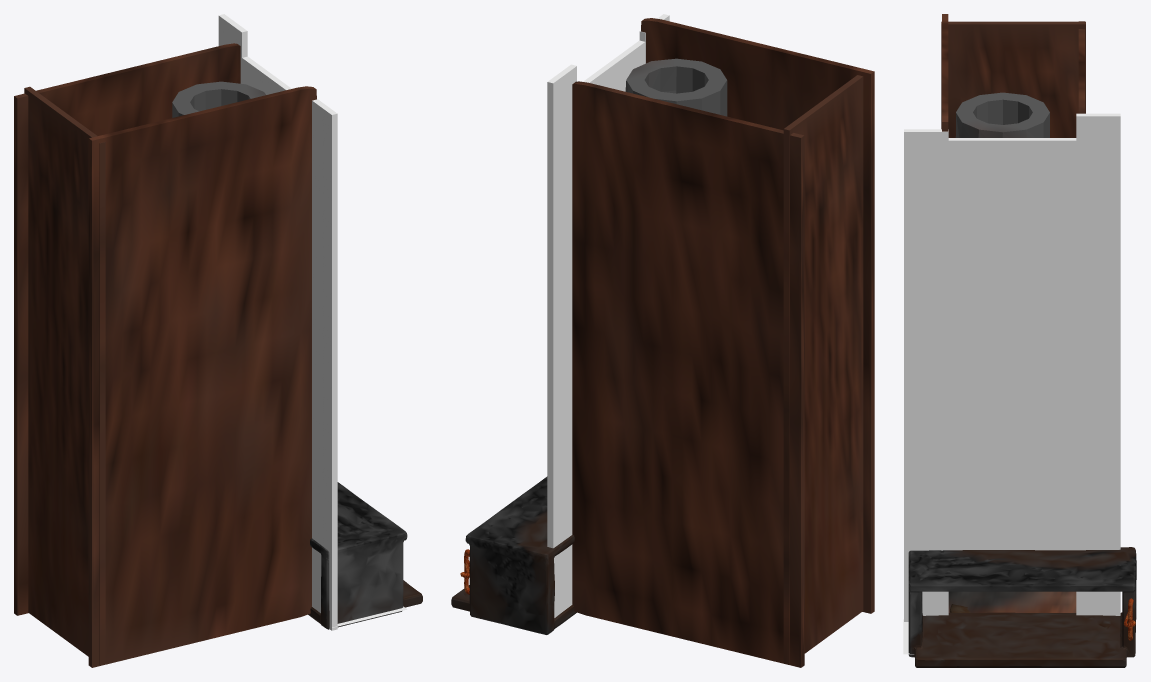
The model's file is Trash.fbx.
3 views of the same model, side by side, from view 1: azimuth 30°, elevation 25°; view 2: azimuth 150°, elevation 25°; view 3: azimuth 270°, elevation 25° (orthographic). The views are drawn at different scales.
Visible parts, largest first — view 1: Boîte 1, Mur fond, Boîte 5, Boîte 3, Boîte 2, Tube dechet, Boîte 7, Boîte 4; view 2: Boîte 5, Mur fond, Boîte 1, Boîte 4, Boîte 2, Tube dechet, Boîte 7; view 3: Boîte 7, Boîte 2, Boîte 3, Boîte 4, Mur fond, Tube dechet, Sol, Boîte 1, Boîte 5.
Part boxes in pixels (x1,y1,x2,y2): Boîte 1: (88,86,316,667); Mur fond: (24,86,105,664); Boîte 5: (14,43,240,615); Boîte 3: (312,99,337,630); Boîte 2: (308,482,422,629); Tube dechet: (172,81,265,117); Boîte 7: (242,56,291,94); Boîte 4: (218,14,247,83); Boîte 5: (572,81,804,667); Mur fond: (783,75,863,664); Boîte 1: (641,18,874,613); Boîte 4: (547,64,576,617); Boîte 2: (451,476,576,634); Tube dechet: (625,58,727,116); Boîte 7: (583,40,645,91); Boîte 7: (941,138,1085,550); Boîte 2: (908,547,1136,667); Boîte 3: (904,129,948,621); Boîte 4: (1076,113,1120,615); Mur fond: (941,21,1085,137); Tube dechet: (955,92,1049,137); Sol: (948,591,1076,612); Boîte 1: (942,14,948,131); Boîte 5: (1078,21,1084,113).
Size of the model in its own units: 13.1 by 20.83 by 8.64.
